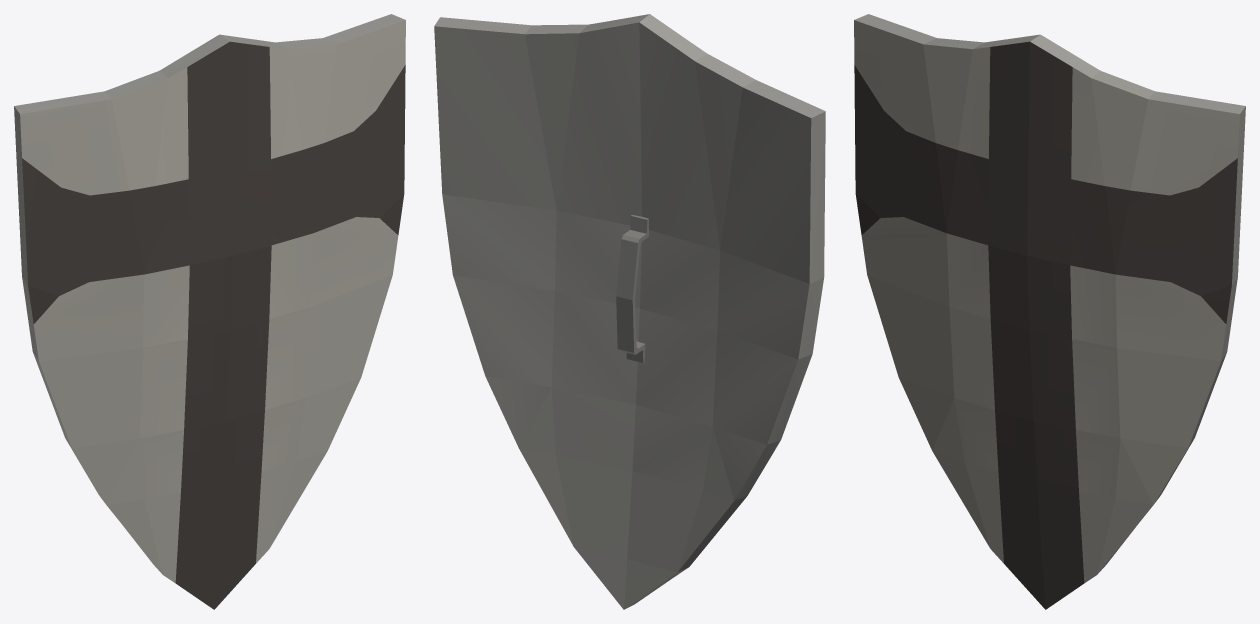
Rendered from SM_pwe_medieval_shield_07a.fbx.
3 views of the same model, side by side, from view 1: azimuth 30°, elevation 25°; view 2: azimuth 150°, elevation 25°; view 3: azimuth 330°, elevation 25° (orthographic).
Parts seen in each view (by area): view 1: SM_pwe_medieval_shield_07a; view 2: SM_pwe_medieval_shield_07a; view 3: SM_pwe_medieval_shield_07a.
Boxes of the visible parts, x1,y1,x2,y2 form: SM_pwe_medieval_shield_07a: [14, 14, 405, 609]; SM_pwe_medieval_shield_07a: [434, 14, 825, 609]; SM_pwe_medieval_shield_07a: [854, 14, 1245, 609].
Bounding box in the file's own units: 63.01 × 90.45 × 8.5.
